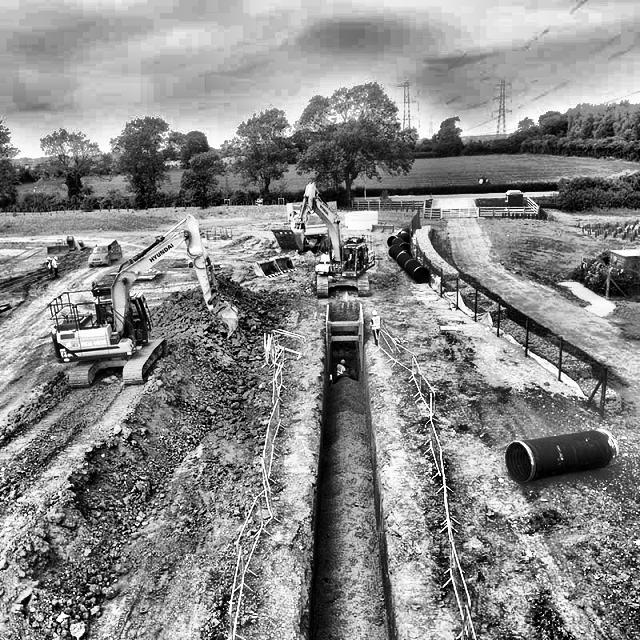drainage: (302, 324, 444, 640)
